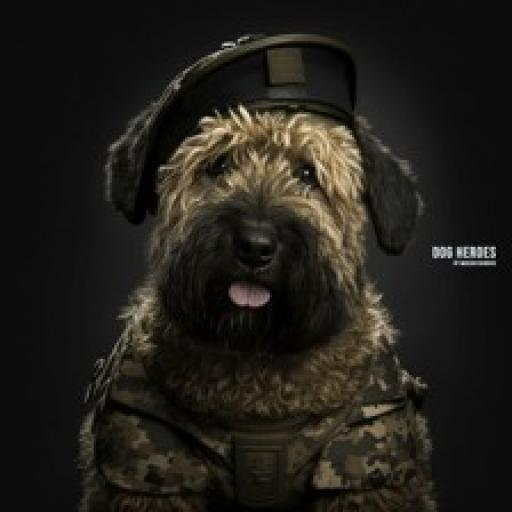dog: (72, 33, 451, 512)
